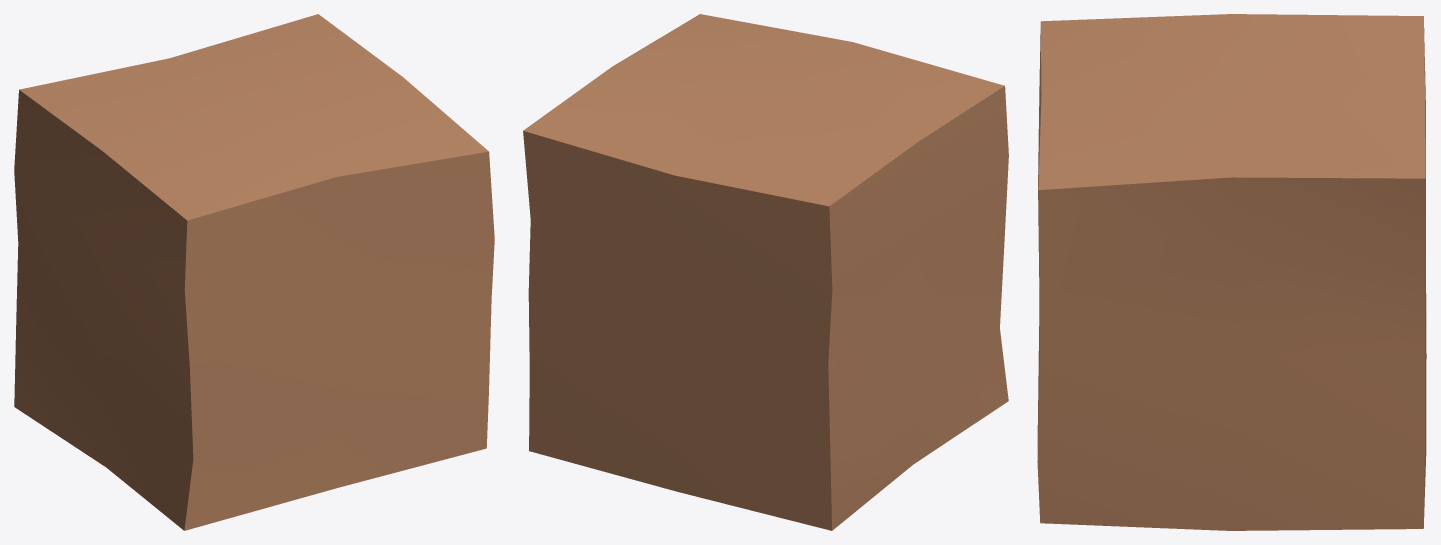
Rendered from Cardboard Box.fbx.
3 renders of one model, left to right at view 1: azimuth 30°, elevation 25°; view 2: azimuth 150°, elevation 25°; view 3: azimuth 270°, elevation 25°, orthographic. The views are drawn at different scales.
Visible parts, largest first — view 1: Cardboard Box; view 2: Cardboard Box; view 3: Cardboard Box.
Part boxes in pixels (x1,y1,x2,y2): Cardboard Box: (14, 14, 494, 530); Cardboard Box: (523, 14, 1008, 530); Cardboard Box: (1037, 14, 1426, 530).
Bounding box in the file's own units: 209 × 208 × 202.
